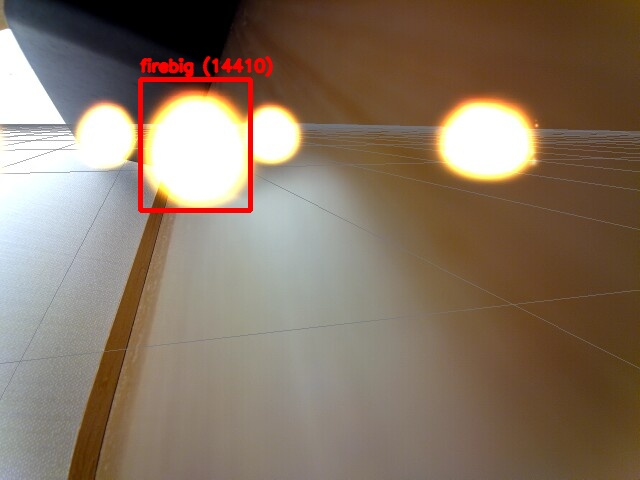firebig: (140, 79, 250, 210)
